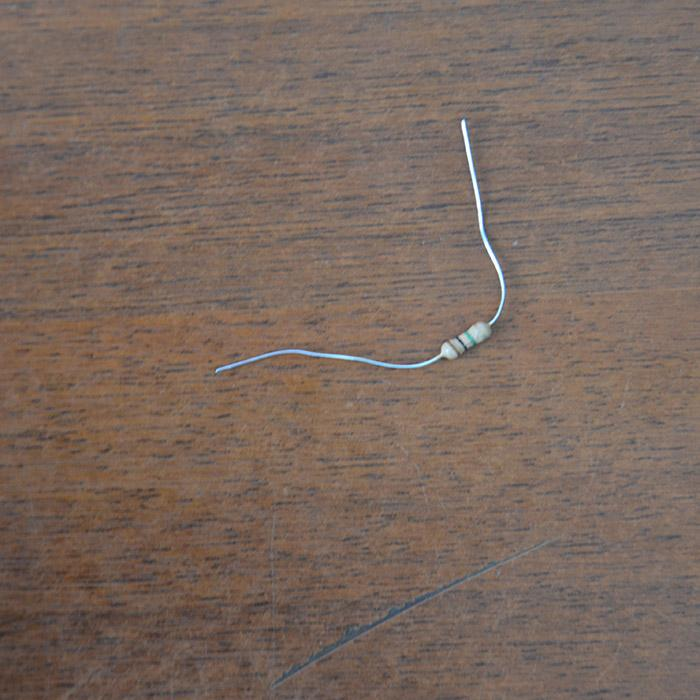resistor: (441, 319, 491, 360)
